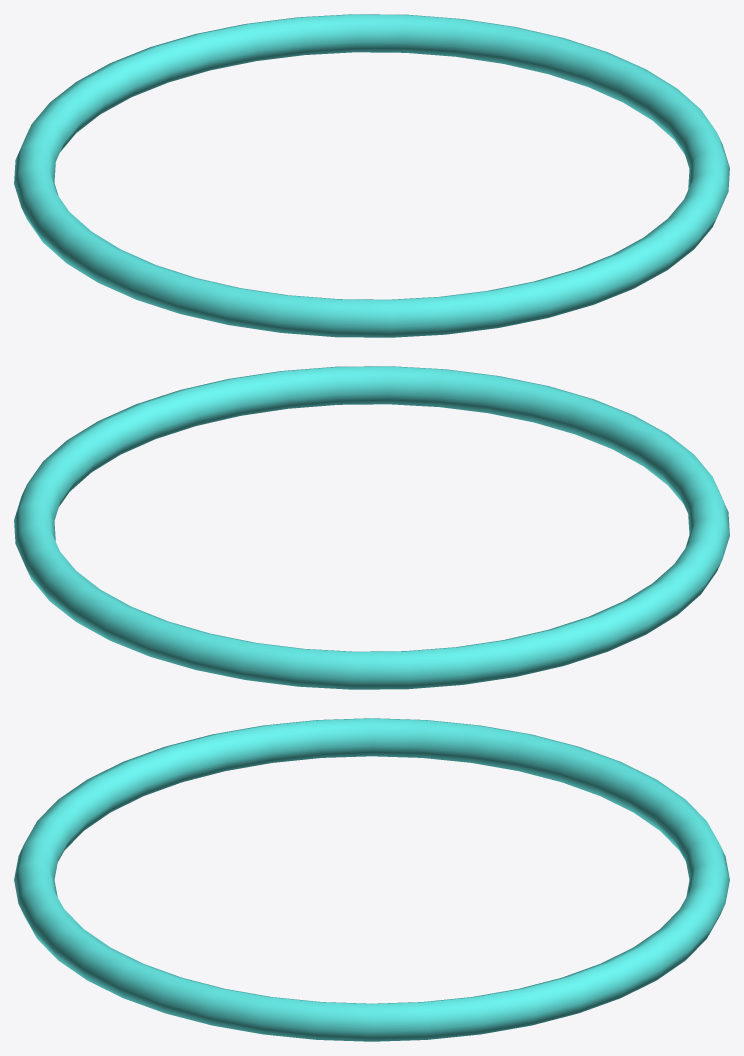
File: selection_ring.glb
The picture shows the model from 3 angles, top to bottom: view 1: azimuth 30°, elevation 25°; view 2: azimuth 150°, elevation 25°; view 3: azimuth 270°, elevation 25°; orthographic projection.
Visible parts, largest first — view 1: Torus.029; view 2: Torus.029; view 3: Torus.029.
Part boxes in pixels (x1,y1,x2,y2): Torus.029: [14, 14, 729, 337]; Torus.029: [14, 366, 729, 689]; Torus.029: [14, 718, 729, 1041].
Bounding box in the file's own units: 0.848 × 0.048 × 0.848.
